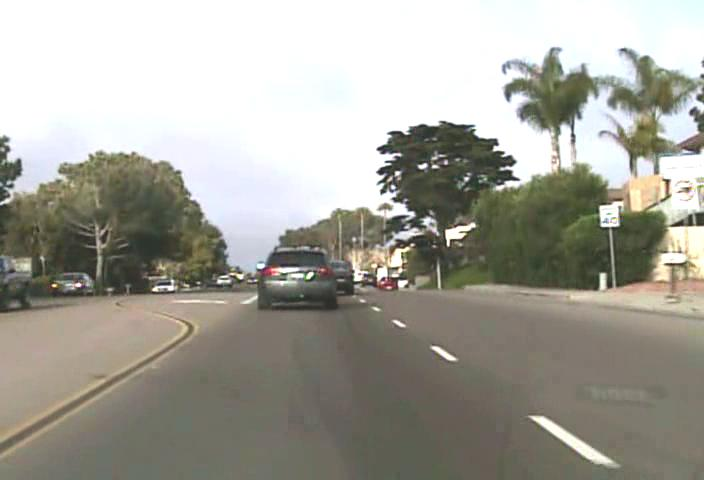40 MPH: (599, 203, 620, 227)
